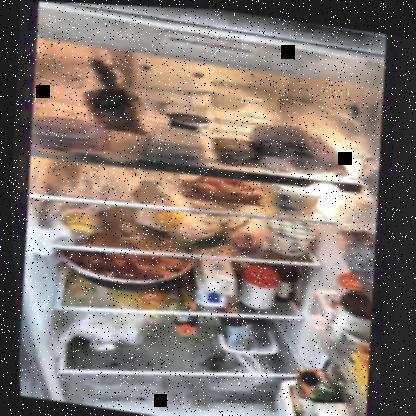broccoli: (212, 313, 277, 354)
butter: (211, 133, 260, 165)
carrot: (180, 169, 263, 207)
cheese: (140, 124, 205, 160)
green_chillies: (181, 222, 232, 253)
lemon: (57, 207, 99, 238), (148, 200, 182, 228)
milk: (185, 255, 237, 306), (300, 395, 359, 415)
salami: (32, 113, 105, 151)
yoghurt: (260, 214, 315, 257), (268, 179, 318, 215), (165, 107, 211, 130)
